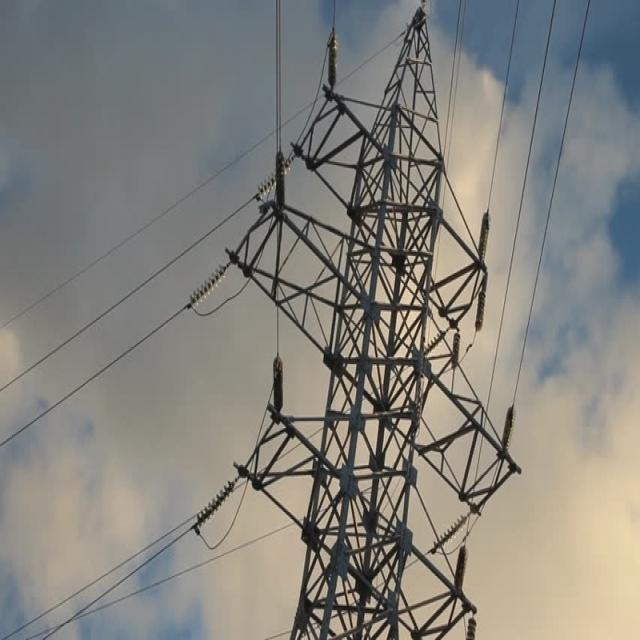non-critical vegetation: (222, 17, 508, 632)
